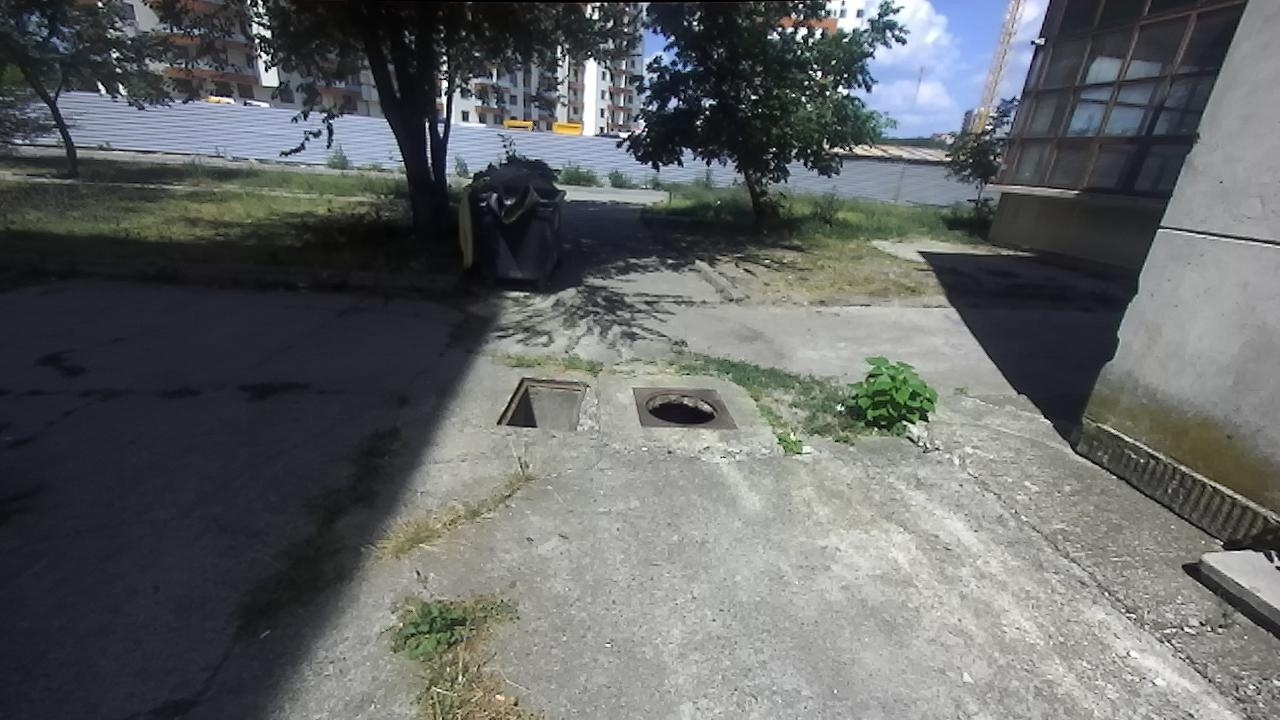drain: (495, 375, 591, 432), (638, 386, 722, 424)
